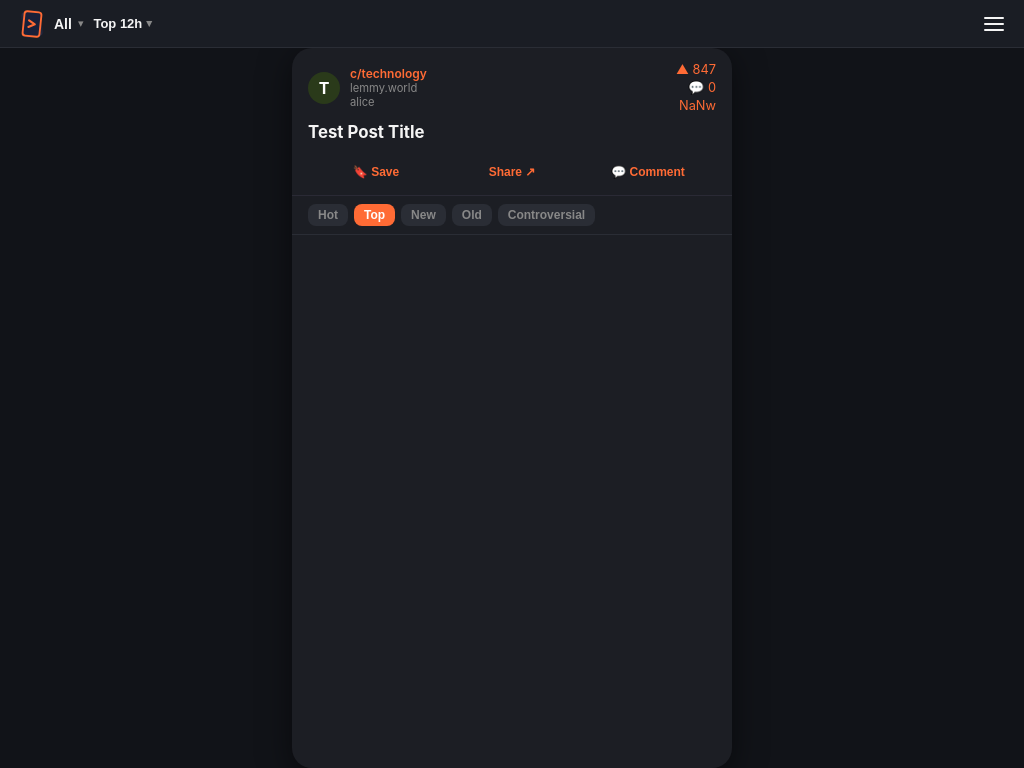
Test: FeedStack menu drawer › opens the drawer when menu button is clicked
This screenshot has width=1024, height=768.
Expected: the text "Test Post Title" is shown, [308,122,424,142]
Click the button named "menu" at point(994, 24), box [980,12,1008,34]
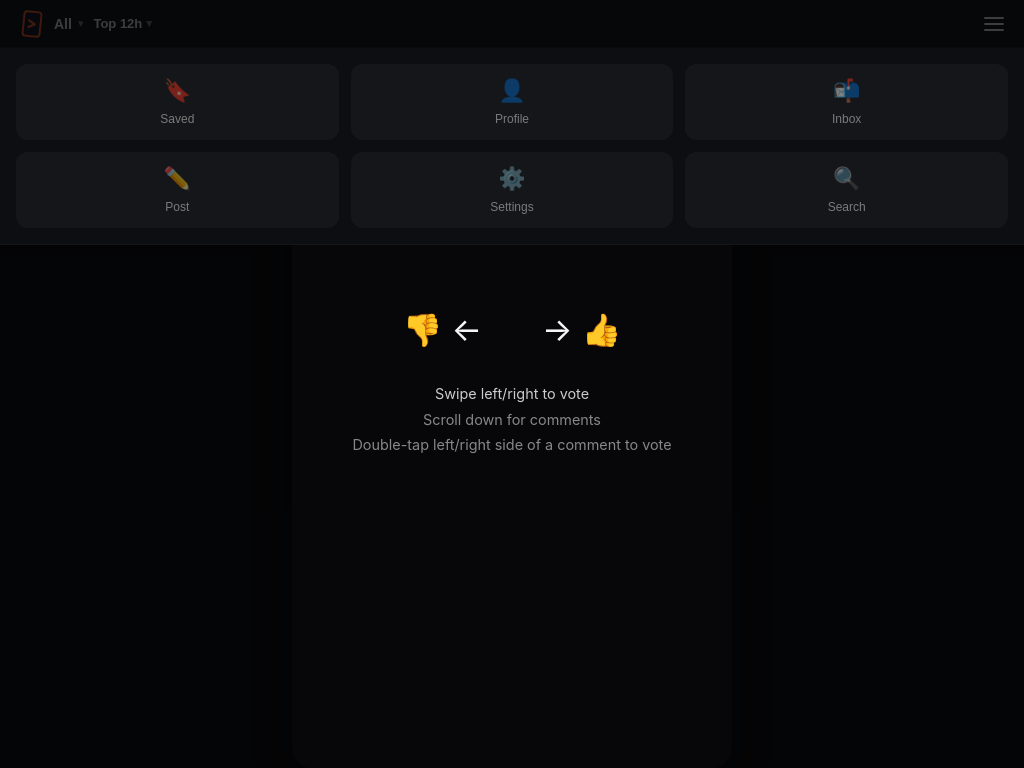
Expected: the button "🔖 Saved" is shown, [16,64,339,140]
Expected: the button "👤 Profile" is shown, [351,64,673,140]
Expected: the button "📬 Inbox" is shown, [685,64,1008,140]
